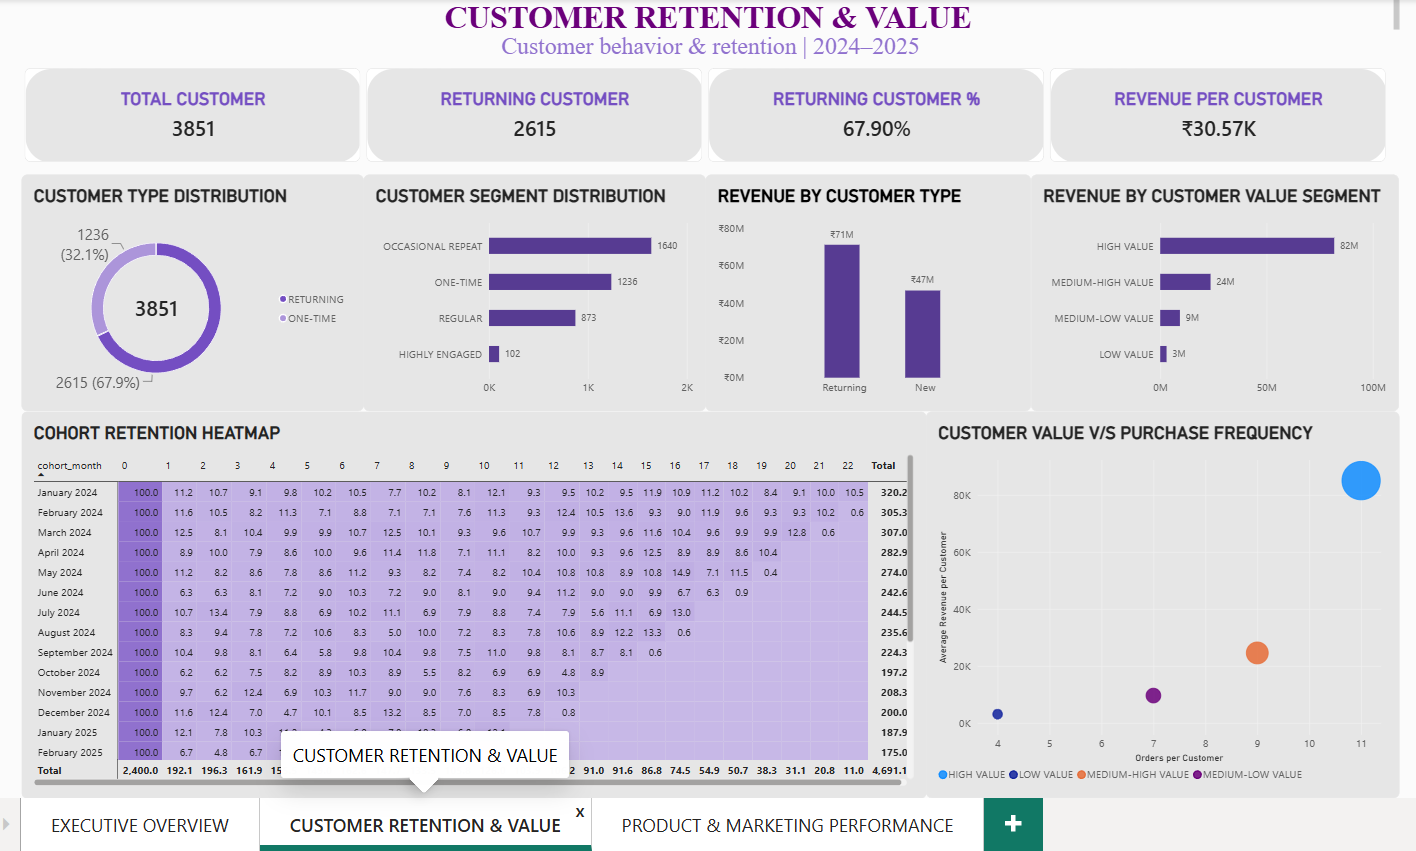

What the dashboard file says about the page in this screenshot:
{"tool":"powerbi","page":{"name":"CUSTOMER RETAINTION & VALUE","canvas":[1920,1080],"ordinal":1},"visuals":[{"type":"textbox","box":[30,0,1862.5,45],"z":0},{"type":"textbox","box":[30,45,1862.5,47.5],"z":1000},{"type":"donutChart","title":"CUSTOMER TYPE DISTRIBUTION","fields":{"Y":["Measures (2).Total Customers"],"Category":["Customers.Customer Classification"]},"box":[30,237.5,462.5,320],"z":2000},{"type":"clusteredColumnChart","title":"REVENUE BY CUSTOMER TYPE","fields":{"Y":["Measures (2).Total Revenue"],"Category":["Transactions.Customer_Type"]},"box":[955,237.5,440,320],"z":3000},{"type":"barChart","title":"CUSTOMER SEGMENT DISTRIBUTION","fields":{"Category":["Customer_Segment.Customer_Segment"],"Y":["CountNonNull(Customer_Segment.Customer_ID)"]},"box":[492.5,237.5,462.5,320],"z":4000},{"type":"clusteredBarChart","title":"REVENUE BY CUSTOMER VALUE SEGMENT","fields":{"Category":["Customer_Segment.Revenue Value Segment"],"Y":["Sum(Customer_Segment.Total_Revenue)"]},"box":[1395,237.5,497.5,320],"z":5000},{"type":"scatterChart","title":"CUSTOMER VALUE V/S PURCHASE FREQUENCY","fields":{"X":["Measures (2).Average Orders per Customer"],"Size":["Sum(Customer_Segment.Total_Revenue)"],"Series":["Customer_Segment.Revenue Value Segment"],"Y":["Measures (2).Average Revenue per Customer"]},"box":[1252.5,557.5,640,522.5],"z":6000},{"type":"pivotTable","title":"COHORT RETAINTION HEATMAP","fields":{"Rows":["Cohort_Retention.cohort_month"],"Columns":["Cohort_Retention.months_since_first_purchase"],"Values":["Sum(Cohort_Retention.retention_percentage)"]},"box":[30,557.5,1223.1,523.1],"z":7000},{"type":"cardVisual","fields":{"Data":["Measures (2).Total Customers","Measures (2).Returning Customers","Measures (2).Returning Customer %","Measures (2).Revenue per Customer"]},"box":[35,92.5,1840,127.5],"z":8000}]}

Visuals, with their boxes on the page's 1920x1080 design canvas (x1, y1, x2, y2). These are canvas units, not pixel positions in the 1416x851 screenshot, which may show the page scaled, cropped or inside an application window:
textbox: {"left": 30, "top": 0, "right": 1892, "bottom": 45}
textbox: {"left": 30, "top": 45, "right": 1892, "bottom": 92}
"CUSTOMER TYPE DISTRIBUTION" donutChart: {"left": 30, "top": 238, "right": 492, "bottom": 558}
"REVENUE BY CUSTOMER TYPE" clusteredColumnChart: {"left": 955, "top": 238, "right": 1395, "bottom": 558}
"CUSTOMER SEGMENT DISTRIBUTION" barChart: {"left": 492, "top": 238, "right": 955, "bottom": 558}
"REVENUE BY CUSTOMER VALUE SEGMENT" clusteredBarChart: {"left": 1395, "top": 238, "right": 1892, "bottom": 558}
"CUSTOMER VALUE V/S PURCHASE FREQUENCY" scatterChart: {"left": 1252, "top": 558, "right": 1892, "bottom": 1080}
"COHORT RETAINTION HEATMAP" pivotTable: {"left": 30, "top": 558, "right": 1253, "bottom": 1081}
cardVisual - Measures (2).Total Customers x Measures (2).Returning Customers: {"left": 35, "top": 92, "right": 1875, "bottom": 220}
